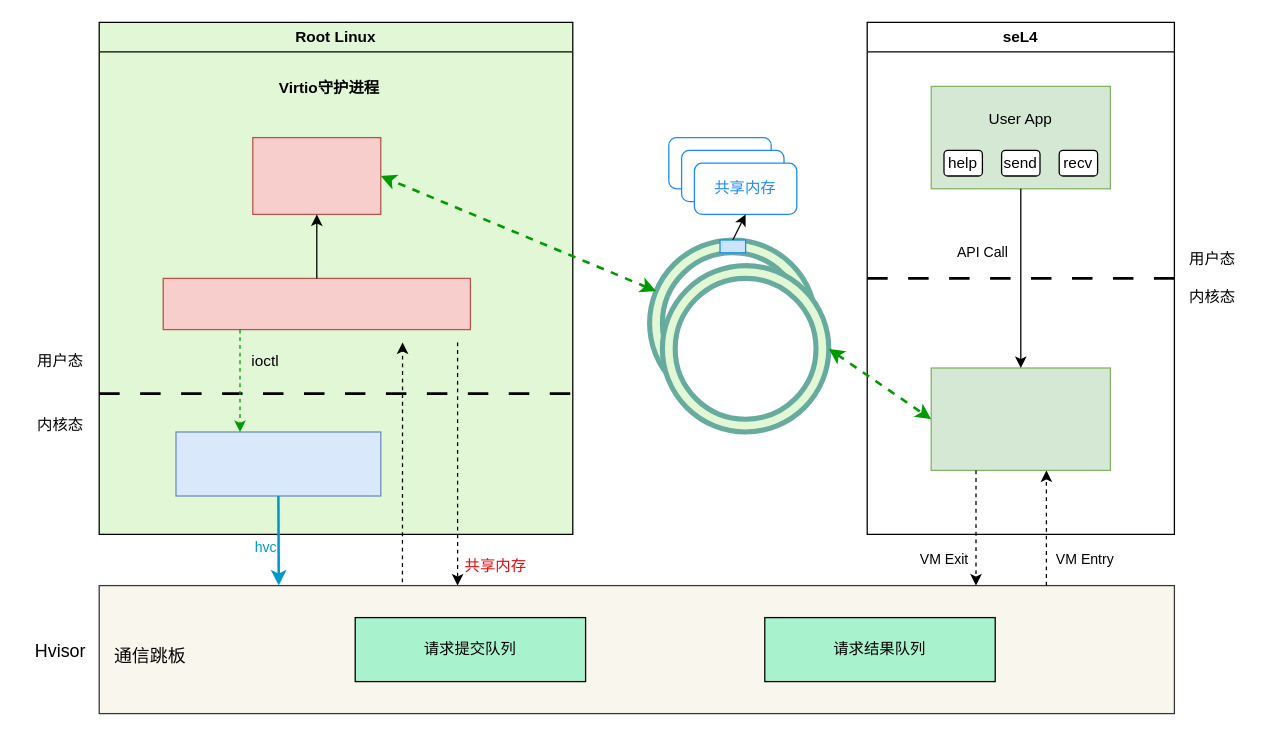
The diagram is 1272 pixels wide and 736 high, and some of its shapes have lost their labels. The centre of each missing label's shape, as x and y in pixels:
"Hypervisor服务模块" belongs at point (278, 463).
"Virtio Driver" belongs at point (1020, 418).
"Virtio-console 设备" belongs at point (316, 175).
"Virtqueue" belongs at point (745, 348).
"分发器" belongs at point (316, 303).
